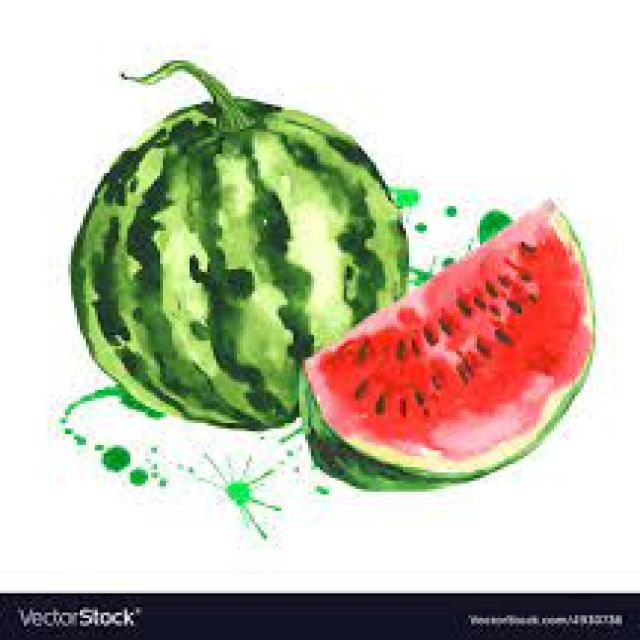watermelon: (68, 58, 409, 431), (296, 195, 596, 492)
